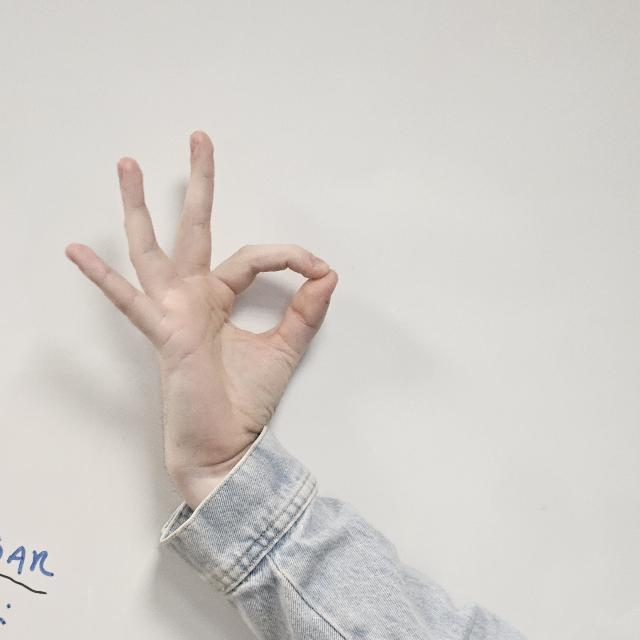Bolinha: (65, 128, 348, 506)
